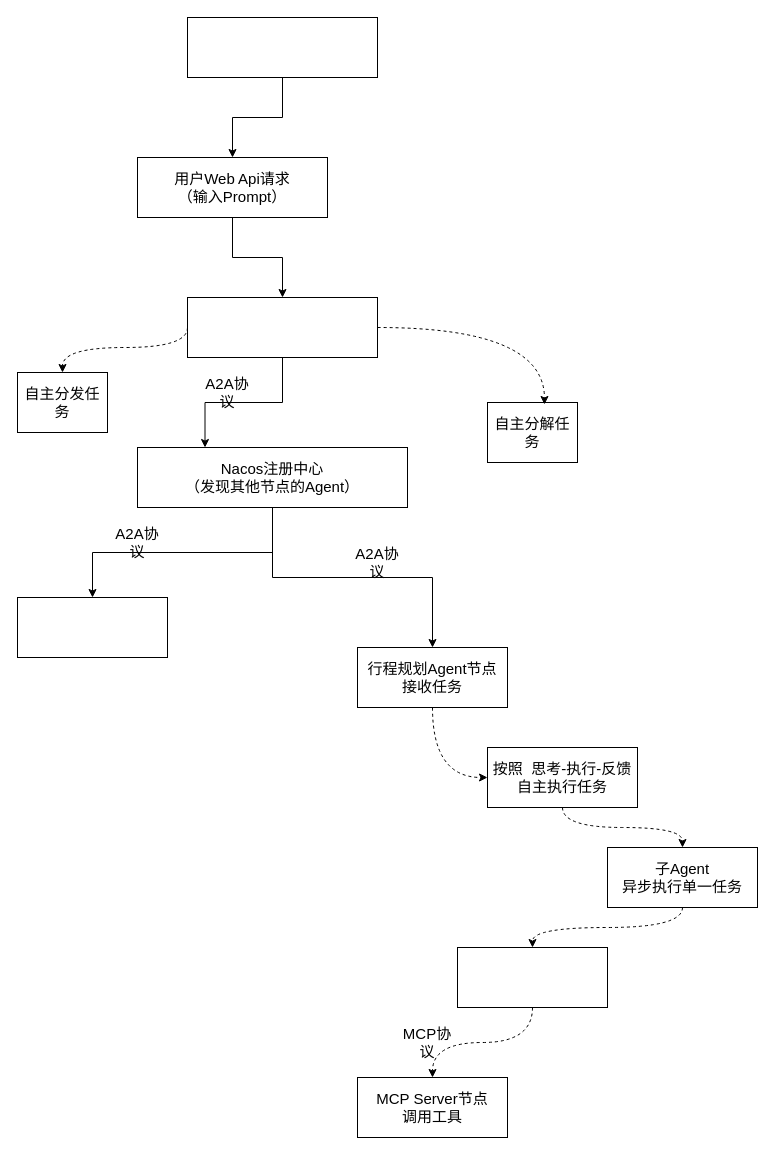
This 775x1155 diagram has some shape labels left out. The shapes that lost their labels are listed below. From the top down, each one's box as (x1, y1, x2, y2) in pixels, then its label:
(186, 16, 378, 78): 分布式Agent 自主 旅游规划
(186, 296, 378, 358): 主管Agent节点 接受Prompt
(16, 596, 168, 658): 路线规划Agent 节点 接收任务
(456, 946, 608, 1008): 按照Skills专业流程 执行任务
